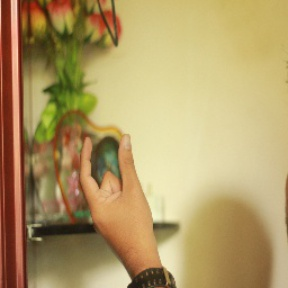U: (64, 126, 158, 252)
